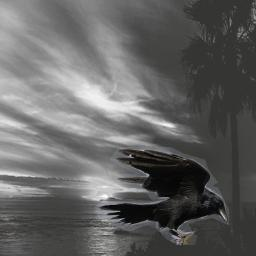Crow: (95, 147, 229, 245)
